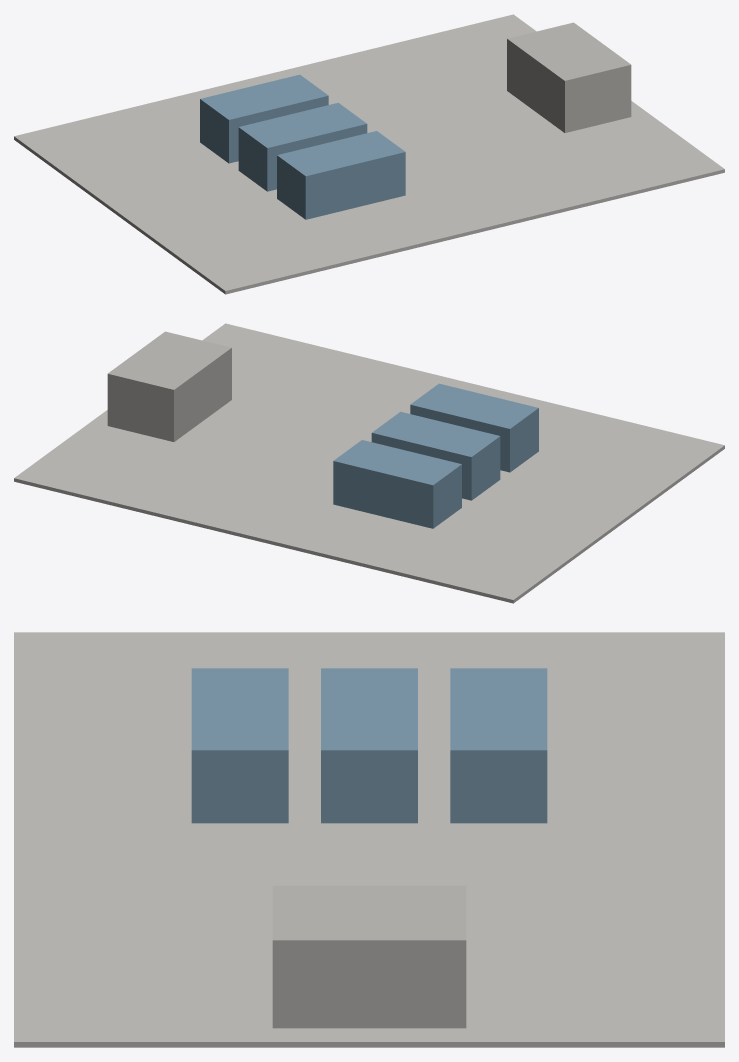
The model's file is 15_industrial_logistics-06.glb.
The picture shows the model from 3 angles, top to bottom: view 1: azimuth 30°, elevation 25°; view 2: azimuth 150°, elevation 25°; view 3: azimuth 270°, elevation 25°; orthographic projection. The views are drawn at different scales.
Size of the model in its own units: 30 by 3.2 by 22.
